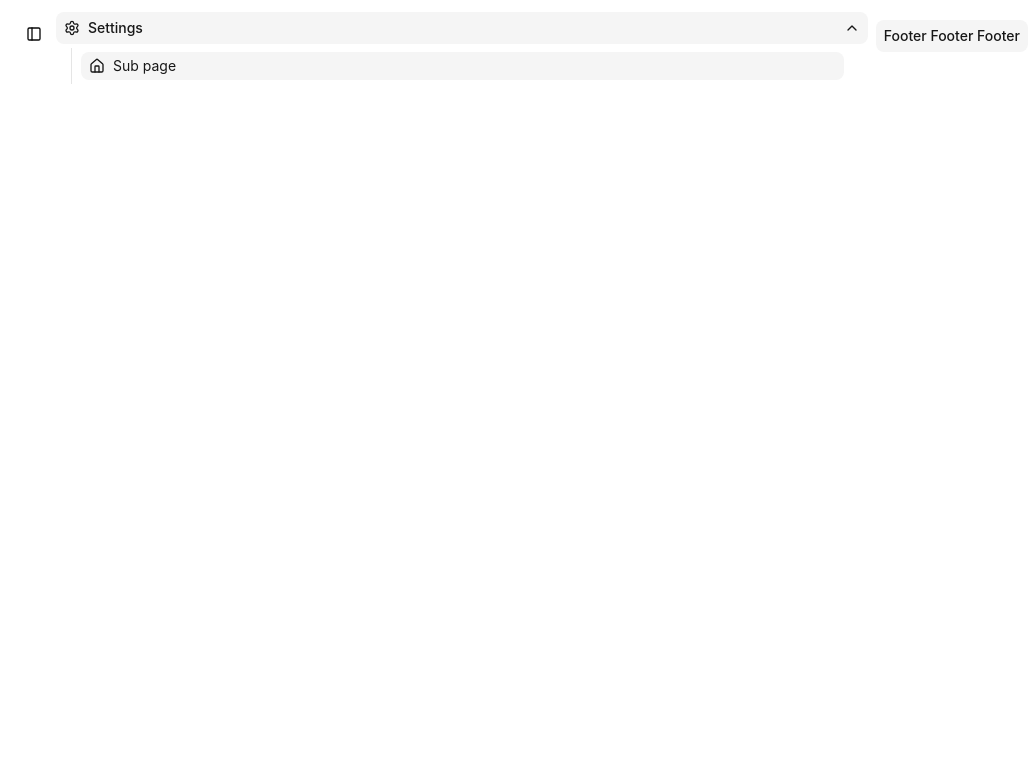
Test: ActorSidebar › renders collapsible group and sub-links from subPages
The width and height of the screenshot is (1036, 780).
Check: the button "Settings" is shown, box [56,12,868,44]
Click the link "Sub page".
click(145, 66)  # box [81,52,844,80]
(page scrolled)
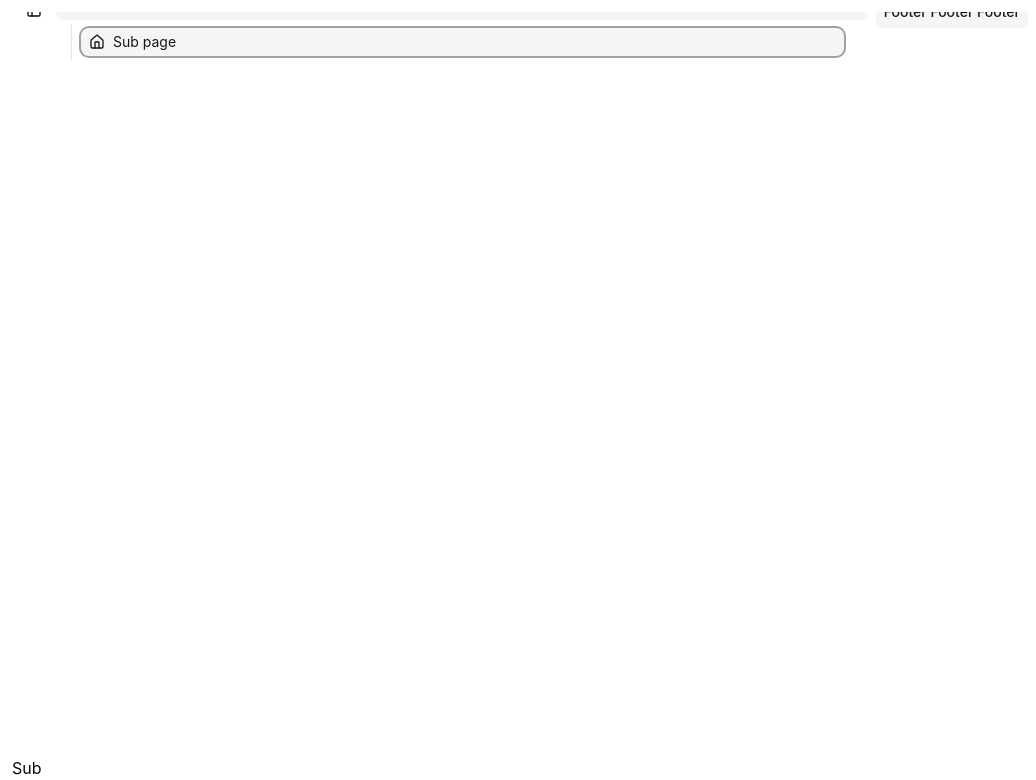
Check: the text "Sub" is shown, box [12,758,42,778]
